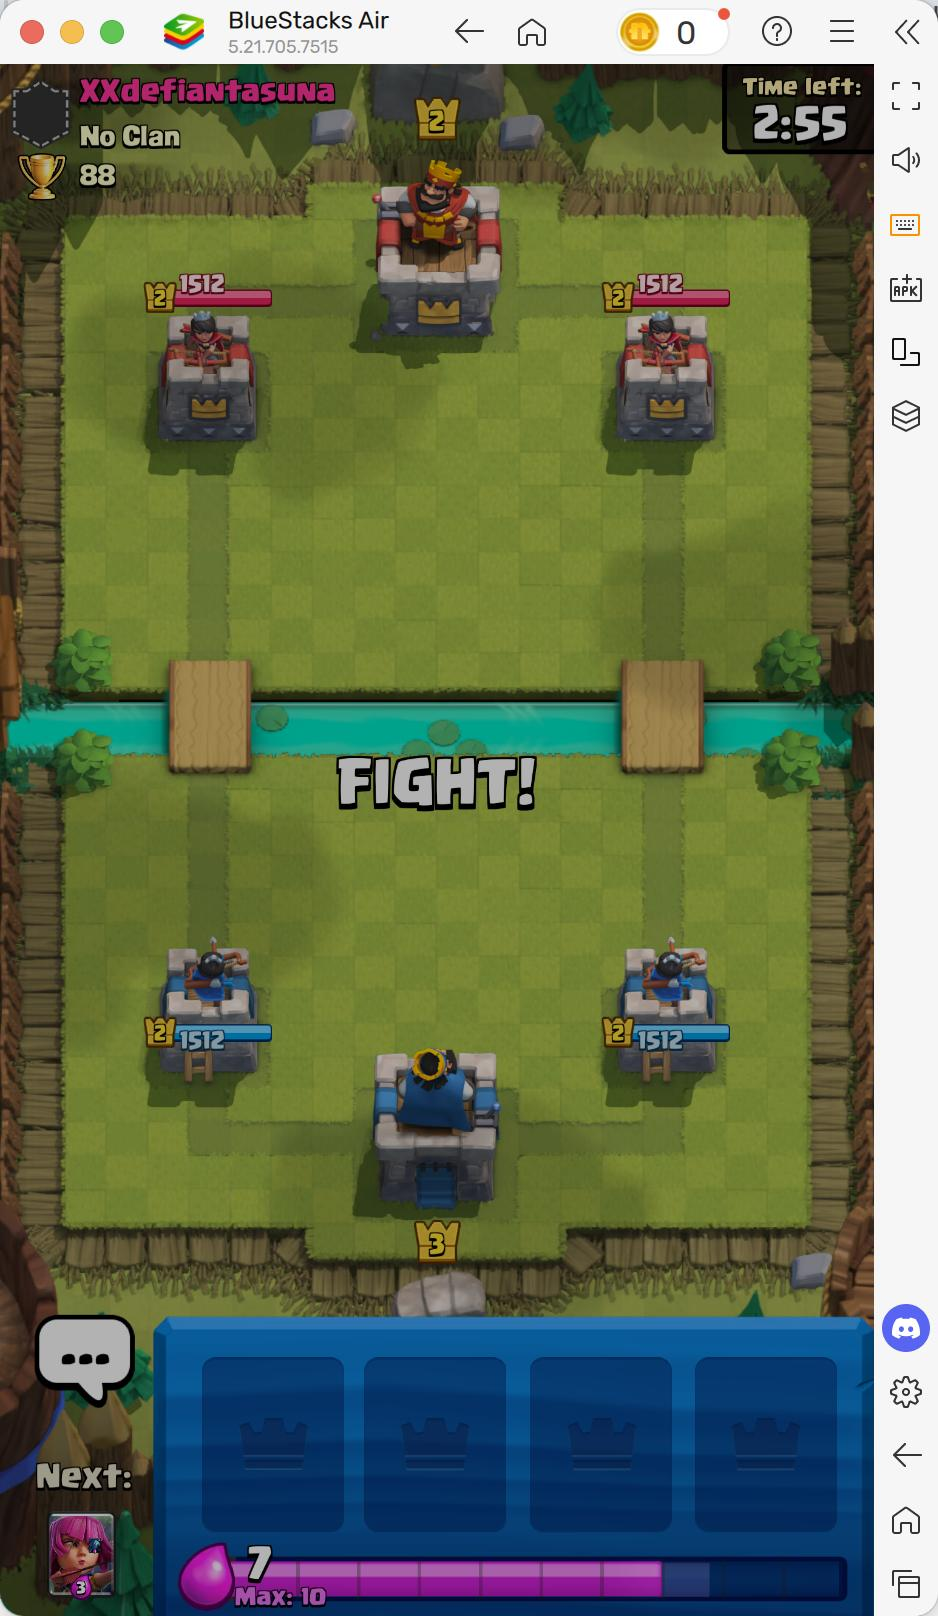1: (659, 1028, 671, 1052), (201, 1028, 213, 1051), (179, 1029, 190, 1052), (638, 1029, 649, 1051), (636, 272, 648, 295), (201, 272, 212, 294), (179, 272, 189, 296), (660, 271, 670, 295)
14: (155, 944, 261, 1075), (615, 946, 719, 1074)
2: (752, 102, 778, 142), (210, 1027, 227, 1052), (209, 271, 227, 295), (668, 271, 686, 295), (668, 1029, 685, 1052)
3: (71, 1577, 88, 1598)
5: (821, 104, 849, 143), (794, 104, 821, 144), (186, 1028, 204, 1052), (186, 272, 203, 296), (645, 1029, 661, 1052), (645, 272, 661, 294)
9: (243, 1539, 274, 1586)
Friendly Winner: (612, 315, 720, 442), (160, 315, 259, 442)
